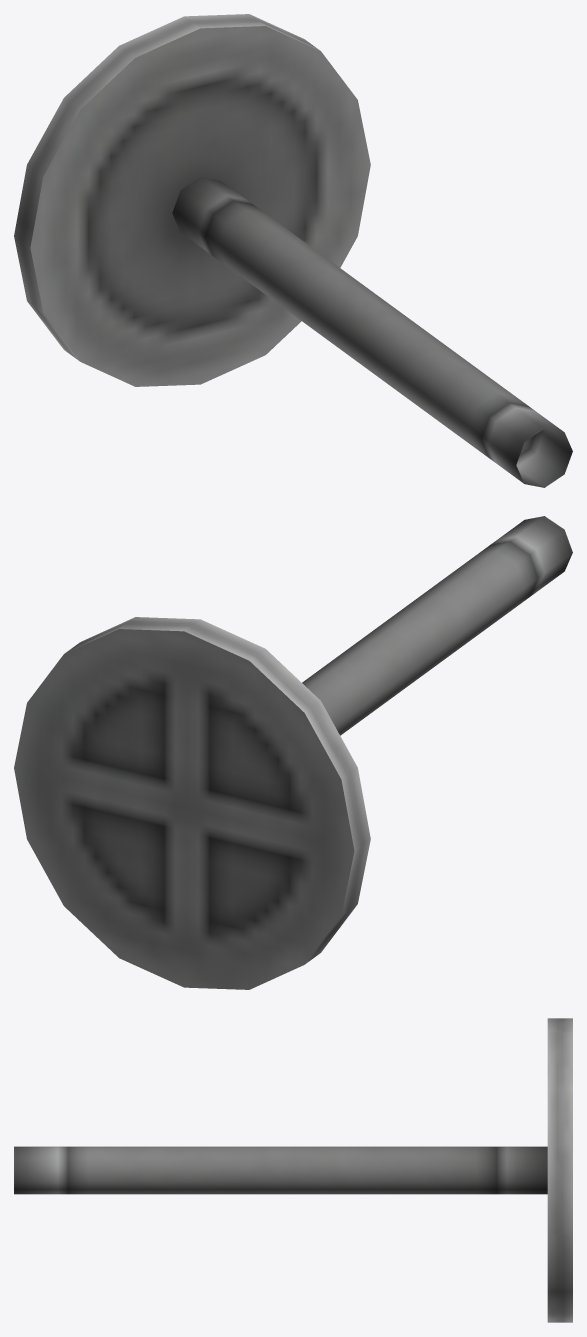
File: 1mv_high_gain_antenna_srf_1_collector.obj
3 renders of one model, top to bottom at view 1: azimuth 30°, elevation 25°; view 2: azimuth 150°, elevation 25°; view 3: azimuth 270°, elevation 25°, orthographic. The views are drawn at different scales.
Parts seen in each view (by area): view 1: mesh1; view 2: mesh1; view 3: mesh1.
Boxes of the visible parts, x1,y1,x2,y2 form: mesh1: [14, 14, 572, 487]; mesh1: [14, 516, 572, 989]; mesh1: [14, 1018, 572, 1322].
Size of the model in its own units: 0.15 by 0.15 by 0.275.
1 material, 1 textured.
